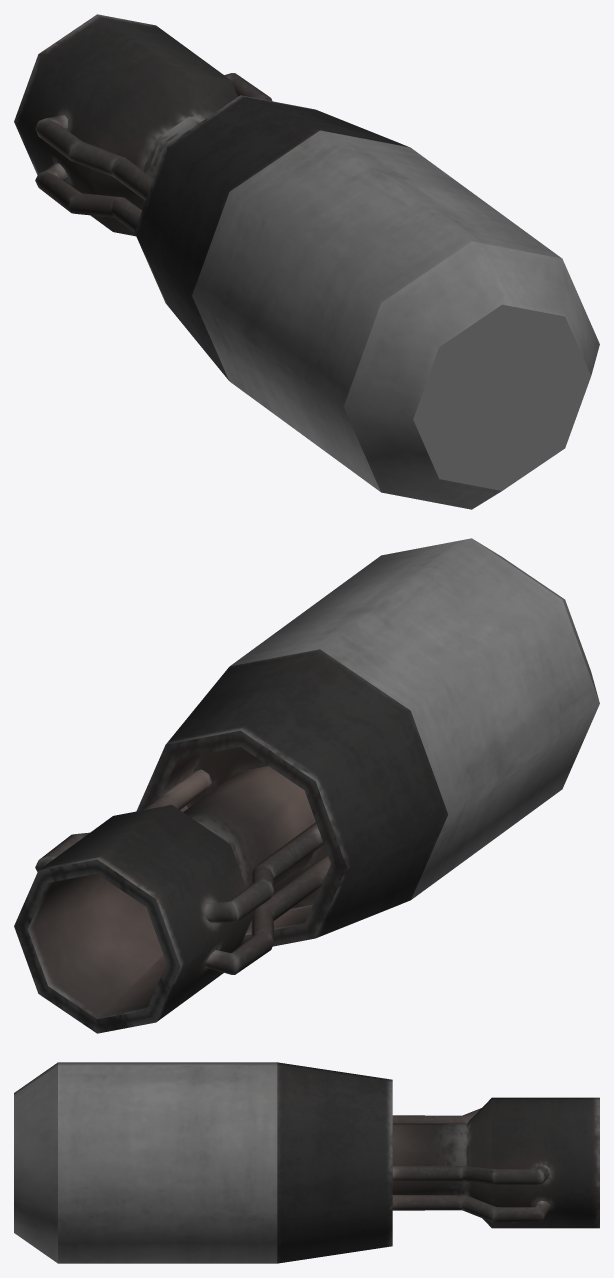
The model's file is cohete_cuerpo.obj.
3 views of the same model, one above another, from view 1: azimuth 30°, elevation 25°; view 2: azimuth 150°, elevation 25°; view 3: azimuth 270°, elevation 25° (orthographic). The views are drawn at different scales.
Parts seen in each view (by area): view 1: cohete_cuerpo; view 2: cohete_cuerpo; view 3: cohete_cuerpo.
Boxes of the visible parts, bbox=[...] form: cohete_cuerpo: bbox=[14, 14, 599, 509]; cohete_cuerpo: bbox=[14, 538, 599, 1033]; cohete_cuerpo: bbox=[14, 1062, 599, 1263].
Bounding box in the file's own units: 1.16 × 1.16 × 3.17.
Materials: 1 (1 with a texture image).
